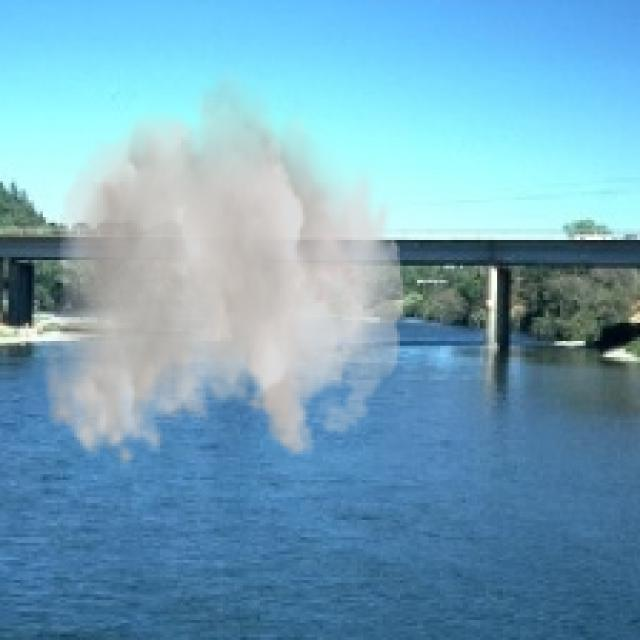Smoke: (43, 57, 406, 469)
